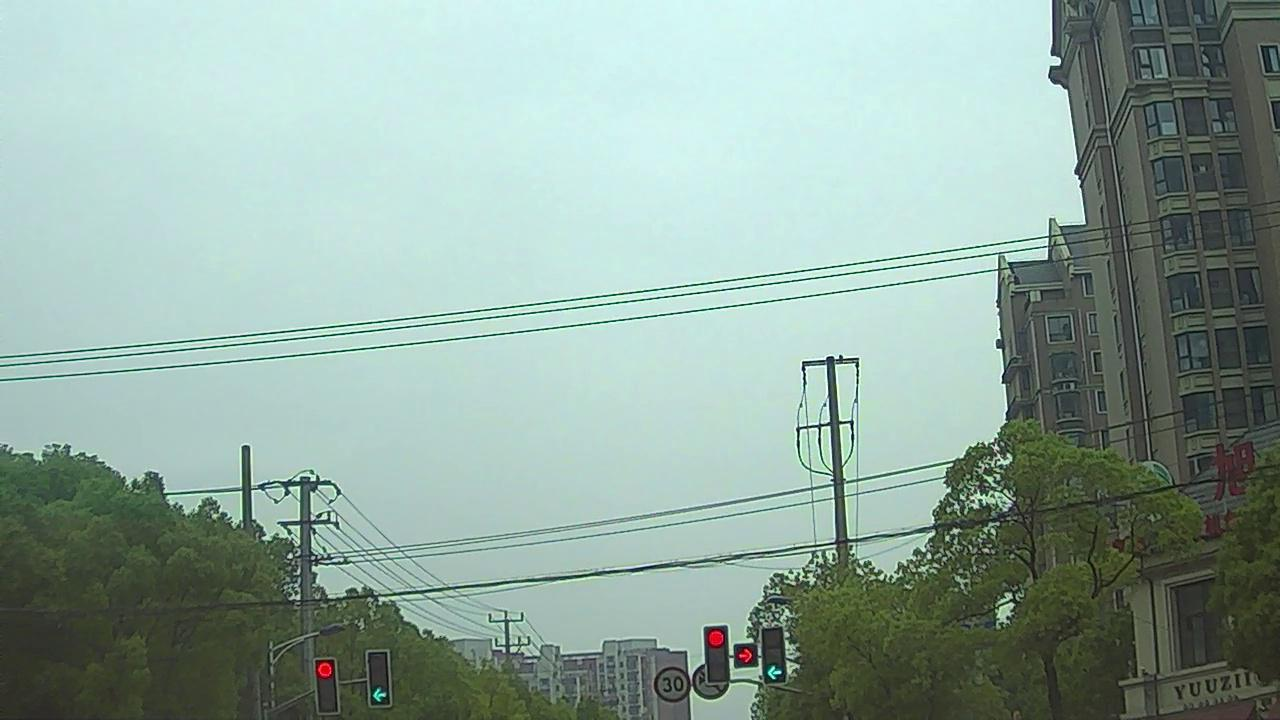traffic_light: (705, 624, 731, 684), (764, 627, 789, 682), (314, 659, 338, 714), (368, 650, 391, 706)
